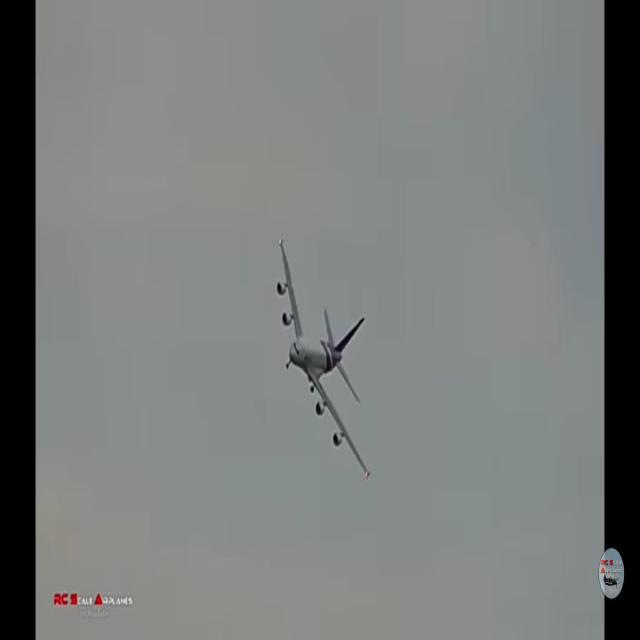iha: (308, 231, 339, 482)
